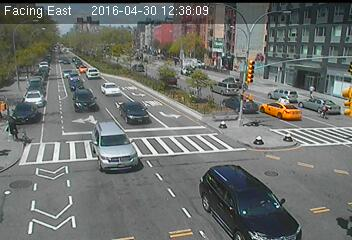neg: (175, 120, 197, 149), (204, 54, 225, 81), (80, 103, 98, 127), (46, 84, 64, 108), (128, 107, 145, 131), (107, 80, 120, 98), (143, 36, 156, 53), (74, 65, 84, 78), (183, 67, 193, 80), (100, 74, 107, 83)
pos: (2, 113, 22, 140), (309, 82, 320, 97)
